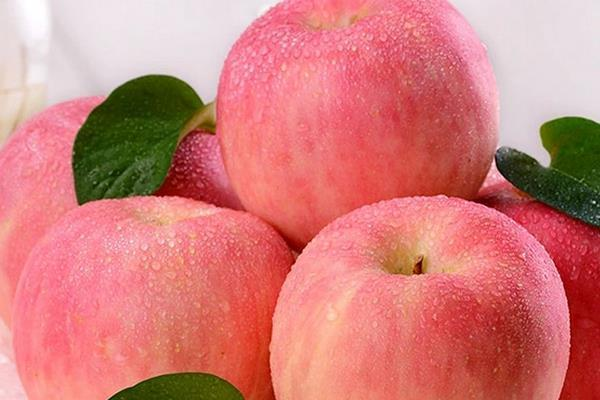apple: (212, 1, 502, 235), (269, 194, 572, 400), (9, 196, 297, 400)
